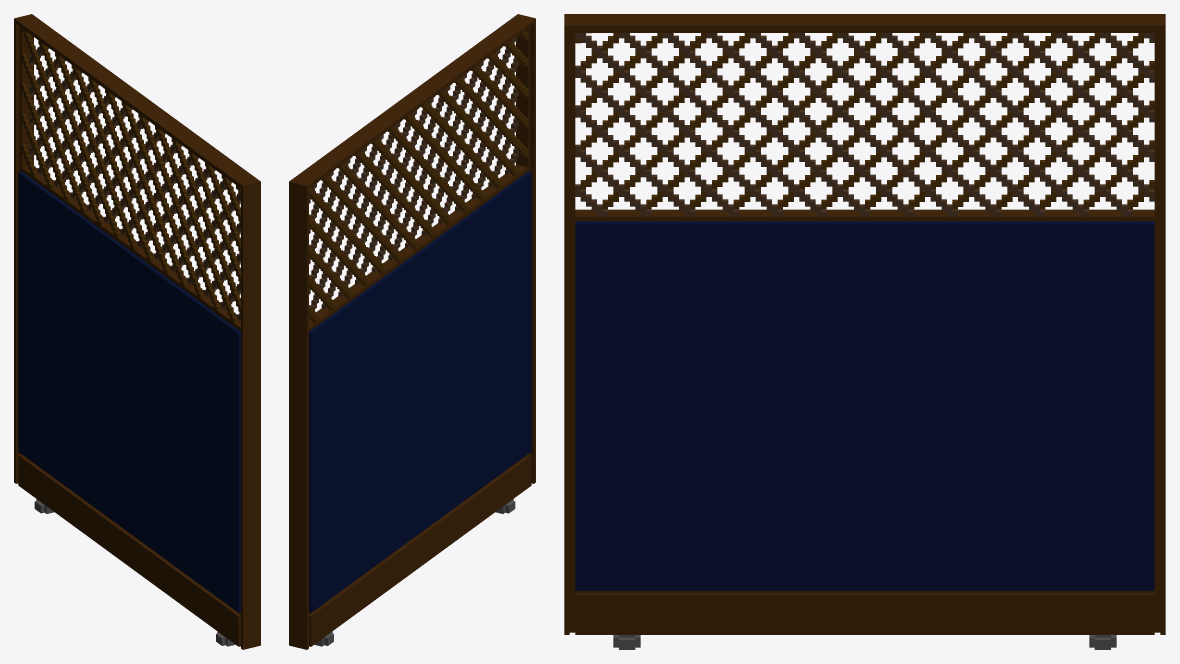
The model's file is Partition2.fbx.
3 views of the same model, side by side, from view 1: azimuth 30°, elevation 25°; view 2: azimuth 150°, elevation 25°; view 3: azimuth 270°, elevation 25° (orthographic). The views are drawn at different scales.
Parts seen in each view (by area): view 1: Partition2; view 2: Partition2; view 3: Partition2.
Part boxes in pixels (x1,y1,x2,y2): Partition2: (14,14,260,649); Partition2: (289,14,535,649); Partition2: (564,14,1165,649).
Size of the model in its own units: 0.5 by 12.6 by 11.
